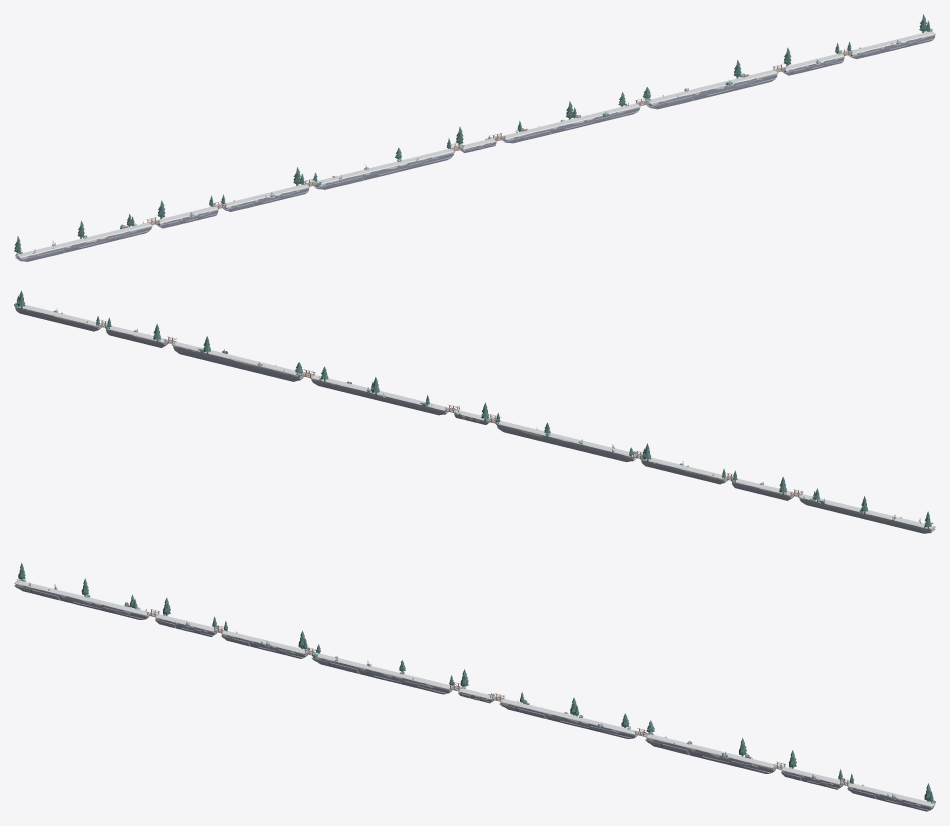
File: Mountain_Lvl_6.fbx
The picture shows the model from 3 angles, top to bottom: view 1: azimuth 30°, elevation 25°; view 2: azimuth 150°, elevation 25°; view 3: azimuth 330°, elevation 25°; orthographic projection.
Parts seen in each view (by area): view 1: polySurface6214; view 2: polySurface6214; view 3: polySurface6214.
Part boxes in pixels (<box>): polySurface6214: <box>14,14,935,261</box>; polySurface6214: <box>14,290,935,533</box>; polySurface6214: <box>14,562,935,811</box>.
Size of the model in its own units: 930 by 26.59 by 14.83.
